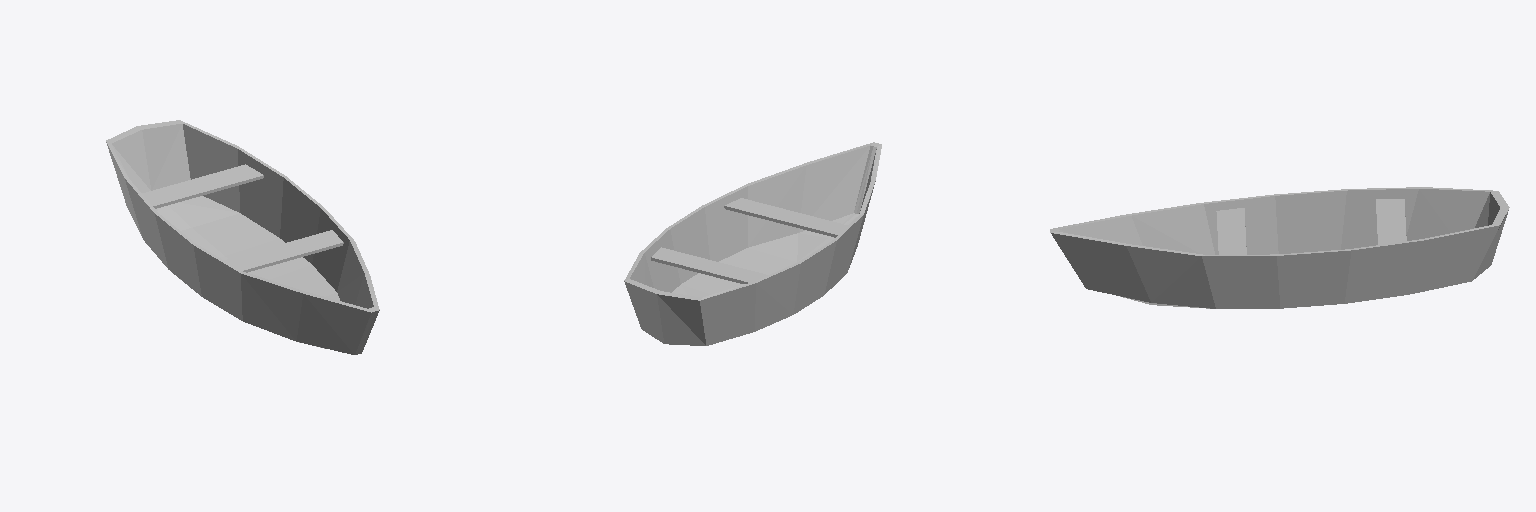
Rendered from boat.obj.
The picture shows the model from 3 angles: view 1: azimuth 30°, elevation 25°; view 2: azimuth 150°, elevation 25°; view 3: azimuth 270°, elevation 25°; orthographic projection.
Parts seen in each view (by area): view 1: Cube, Cube.001; view 2: Cube, Cube.001; view 3: Cube, Cube.001.
Boxes of the visible parts, x1=… form: Cube: x1=106, y1=120, x2=379, y2=354; Cube.001: x1=142, y1=164, x2=343, y2=272; Cube: x1=624, y1=142, x2=881, y2=345; Cube.001: x1=651, y1=198, x2=847, y2=283; Cube: x1=1050, y1=187, x2=1509, y2=308; Cube.001: x1=1216, y1=199, x2=1406, y2=254.
Bounding box in the file's own units: 4.96 × 3.32 × 14.66.